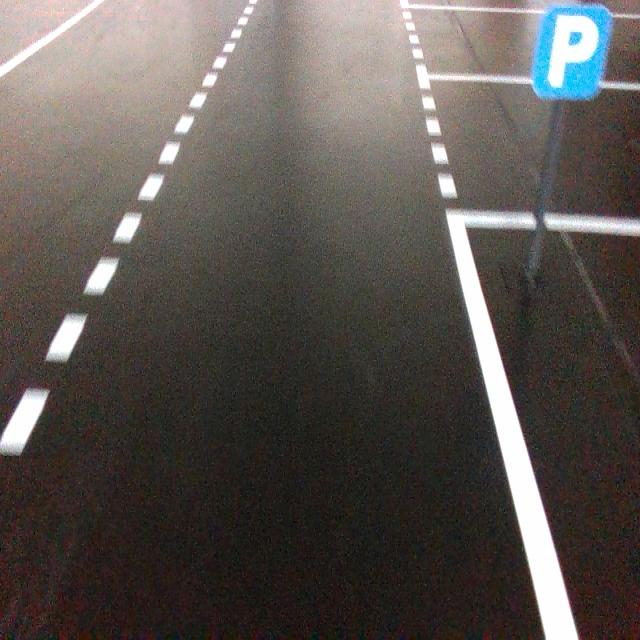parking-sign: (531, 2, 613, 102)
